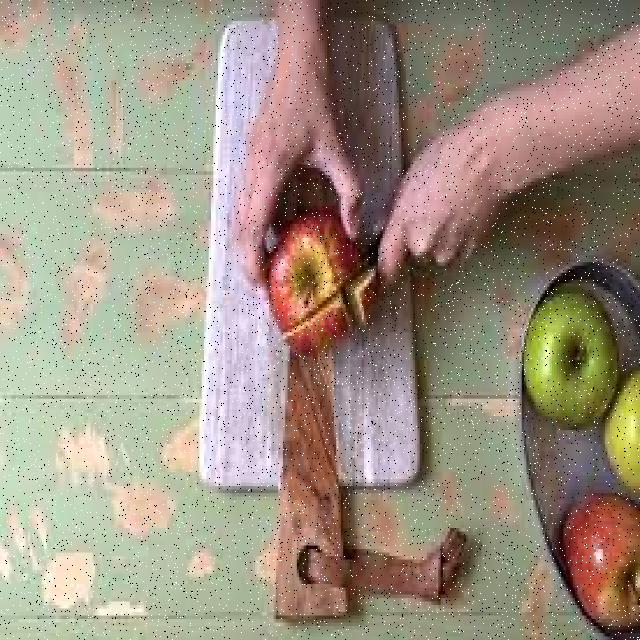Apple: (271, 210, 376, 348), (521, 290, 617, 420), (561, 496, 640, 631), (609, 377, 640, 498)
